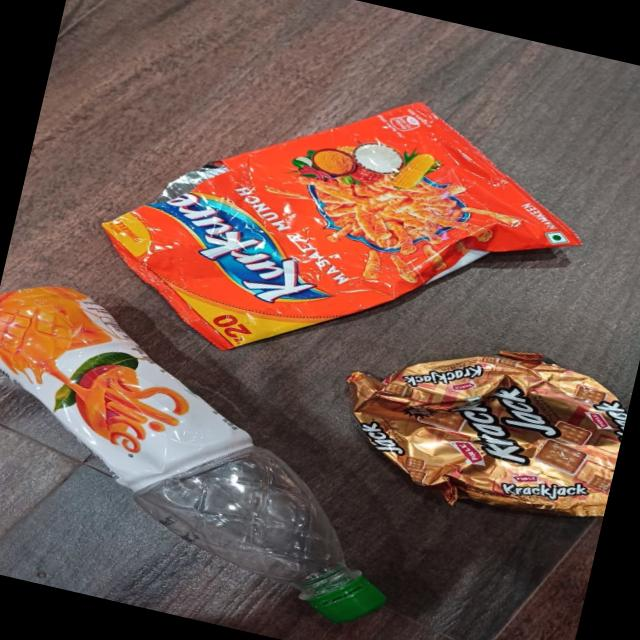Plastic-NonBio: (87, 0, 609, 422), (0, 263, 439, 634), (328, 312, 636, 538)
